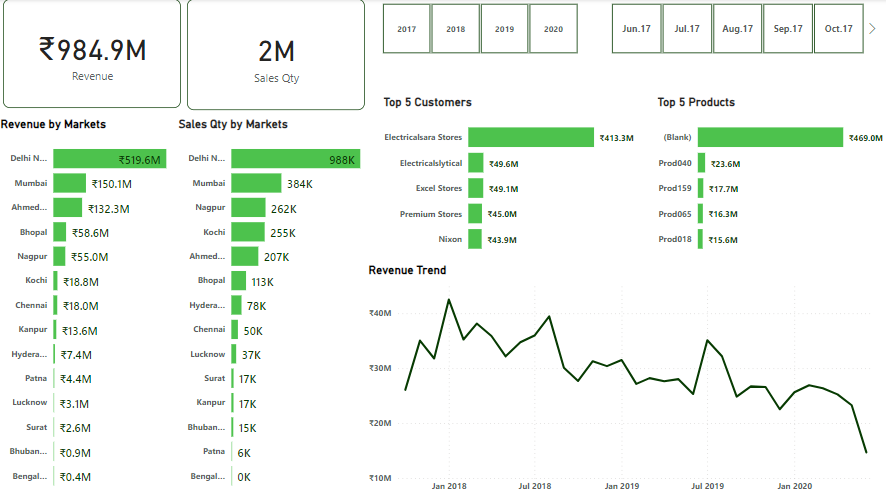

This screenshot's page, from the dashboard's own definition file:
{"tool":"powerbi","page":{"name":"Key Insights","canvas":[1281,720],"ordinal":0},"visuals":[{"type":"card","fields":{"Values":["BaseMeasures.Revenue"]},"box":[8.6,0,256.3,157],"z":0},{"type":"card","fields":{"Values":["BaseMeasures.Sales Qty"]},"box":[273.6,0,256.3,159.8],"z":1000},{"type":"barChart","title":"Revenue by Markets","fields":{"Y":["BaseMeasures.Revenue"],"Category":["markets.markets_name"]},"box":[0,169.9,273.6,550.1],"z":2000},{"type":"barChart","title":"Sales Qty by Markets","fields":{"Y":["BaseMeasures.Sales Qty"],"Category":["markets.markets_name"]},"box":[256.3,169.9,273.6,550.1],"z":3000},{"type":"slicer","fields":{"Values":["date.year"]},"box":[529.9,0,329.8,85],"z":4000},{"type":"slicer","fields":{"Values":["date.cy_date"]},"box":[859.7,0,411.8,85],"z":5000},{"type":"barChart","title":"Top 5 Customers","fields":{"Y":["BaseMeasures.Revenue"],"Category":["customers.custmer_name"]},"box":[551.5,138.2,394.6,241.9],"z":6000},{"type":"barChart","title":"Top 5 Products","fields":{"Y":["BaseMeasures.Revenue"],"Category":["products.product_code"]},"box":[946.1,138.2,335.5,241.9],"z":7000},{"type":"lineChart","title":"Revenue Trend","fields":{"Y":["BaseMeasures.Revenue"],"Category":["date.cy_date"]},"box":[529.9,380.2,751.7,339.8],"z":8000}]}

Visuals, with their boxes in screenshot pixels (x1, y1, x2, y2), scaled from the page's 1281x720 canvas onto the 886x497 screenshot:
card - BaseMeasures.Revenue: box(6, 0, 183, 108)
card - BaseMeasures.Sales Qty: box(189, 0, 367, 110)
"Revenue by Markets" barChart: box(0, 117, 189, 496)
"Sales Qty by Markets" barChart: box(177, 117, 367, 496)
slicer - date.year: box(367, 0, 595, 59)
slicer - date.cy_date: box(595, 0, 879, 59)
"Top 5 Customers" barChart: box(381, 95, 654, 262)
"Top 5 Products" barChart: box(654, 95, 885, 262)
"Revenue Trend" lineChart: box(367, 262, 885, 496)
